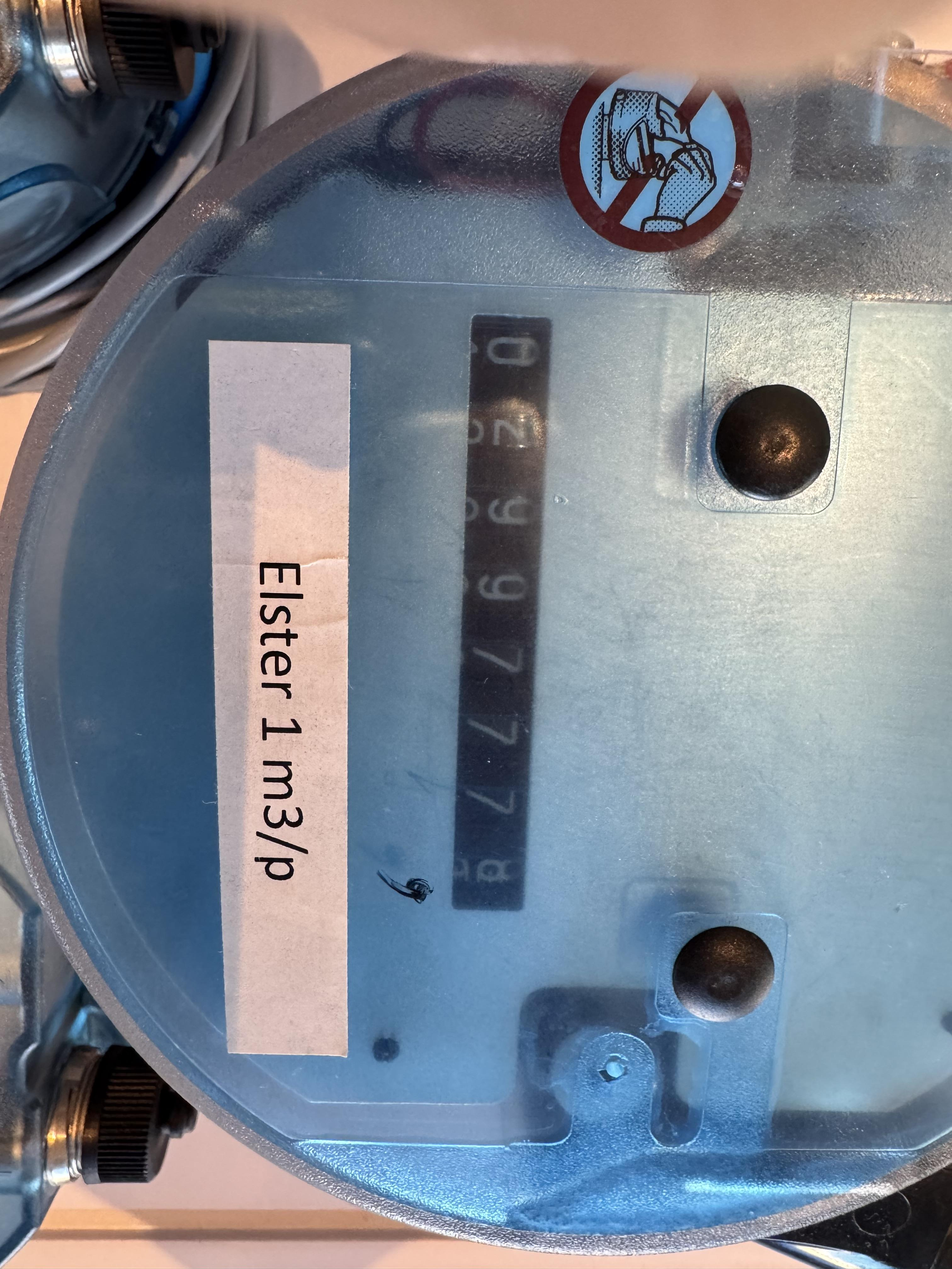analog_dial: (387, 302, 564, 918)
